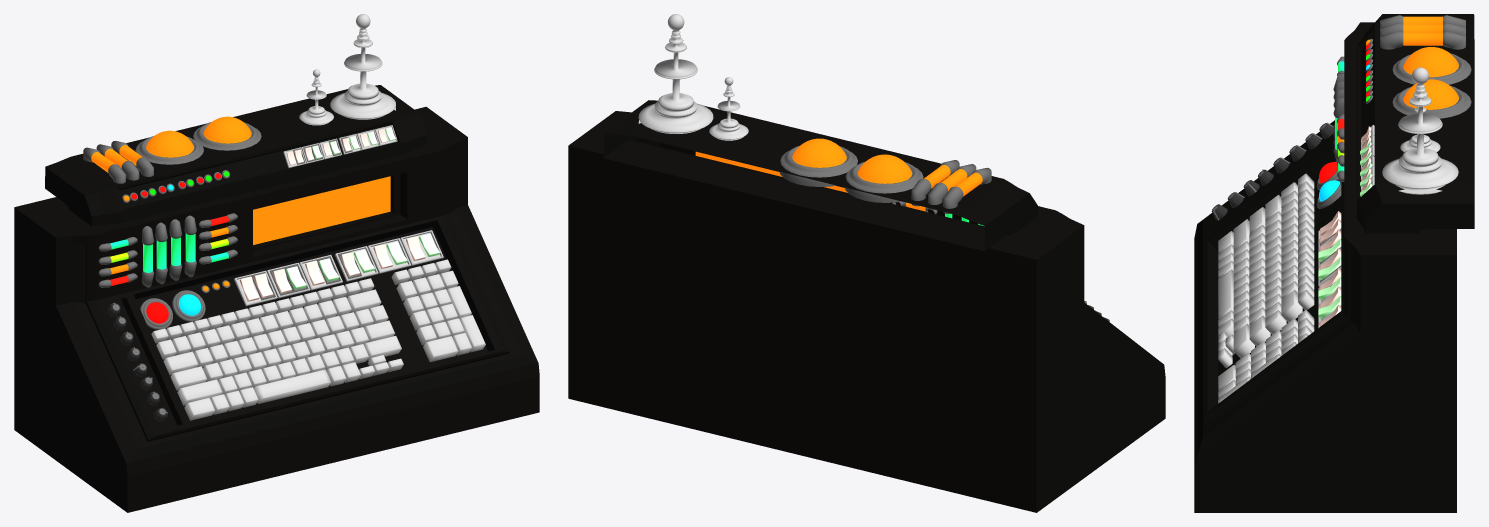
File: Sub_Hud_Console1.fbx
3 renders of one model, left to right at view 1: azimuth 30°, elevation 25°; view 2: azimuth 150°, elevation 25°; view 3: azimuth 270°, elevation 25°, orthographic. The views are drawn at different scales.
Parts seen in each view (by area): view 1: Sub_Console1; view 2: Sub_Console1; view 3: Sub_Console1.
Part boxes in pixels (box(x1,y1,x2,y2)): Sub_Console1: box(14, 14, 539, 512); Sub_Console1: box(568, 14, 1165, 512); Sub_Console1: box(1194, 14, 1474, 512).
Size of the model in its own units: 336 by 270 by 171.
